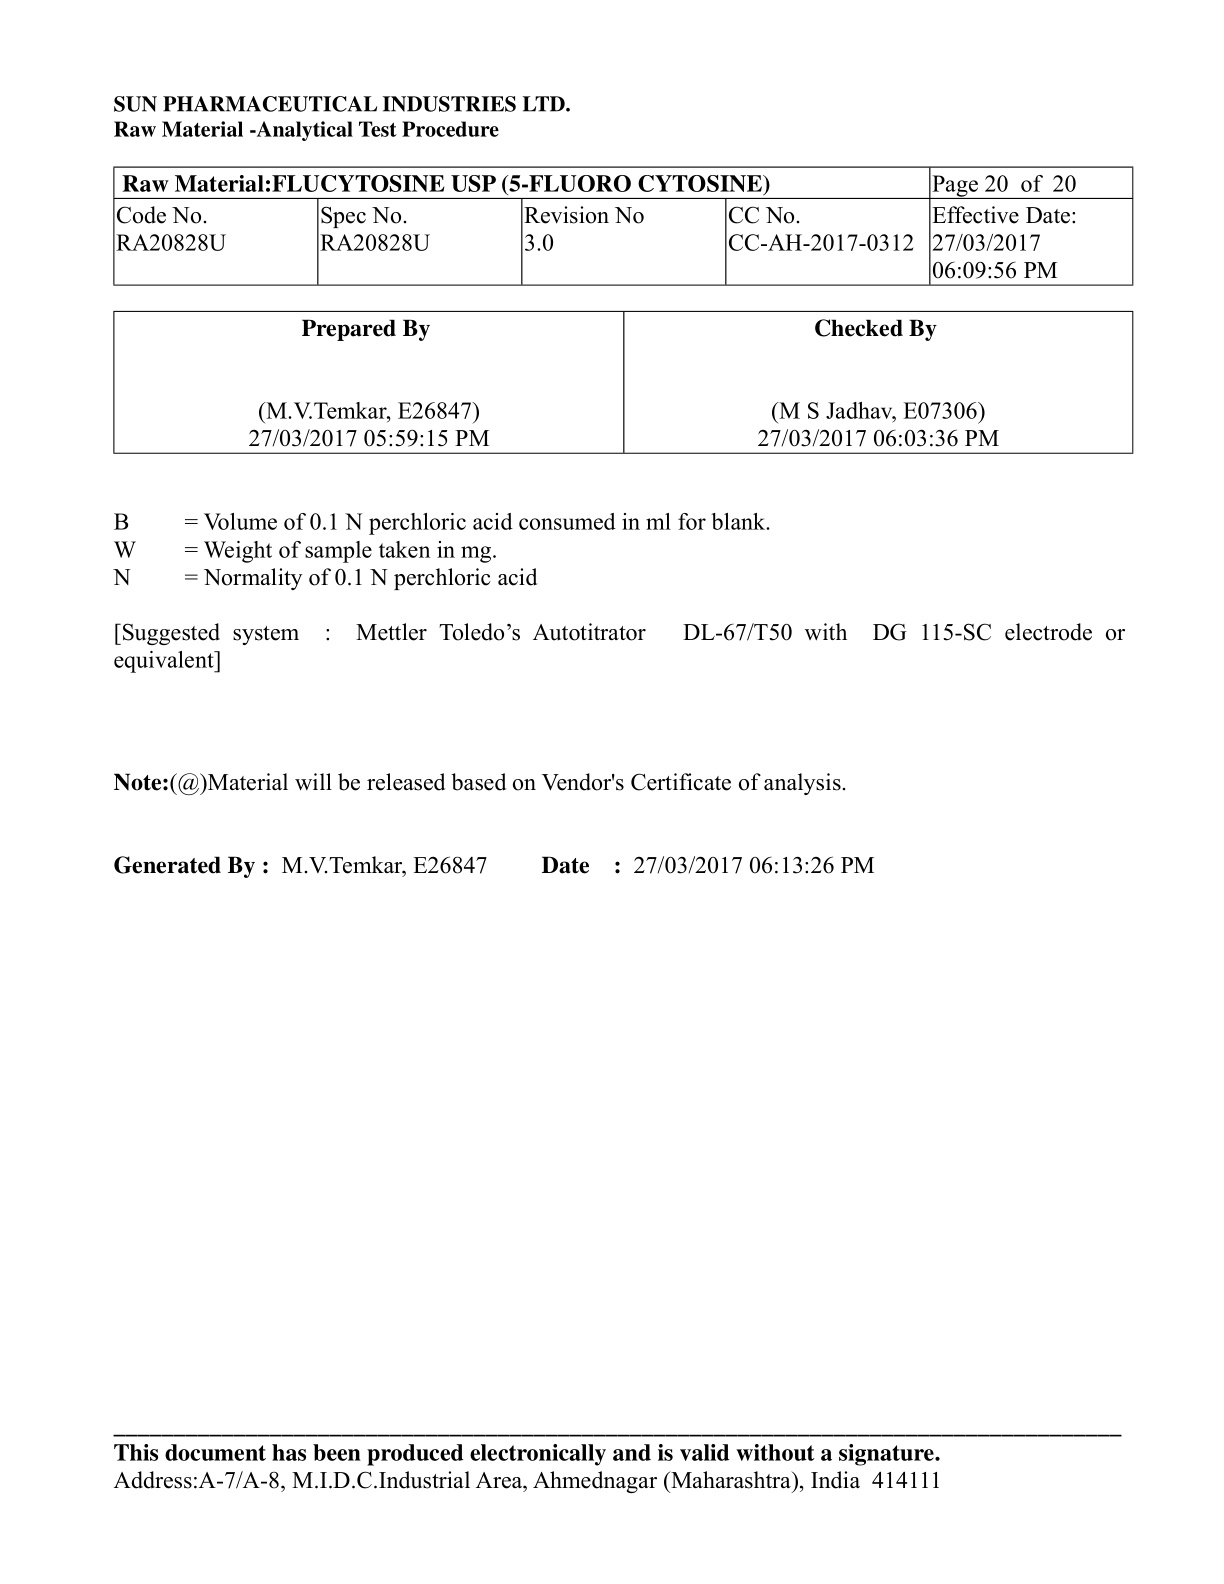full_lined: (113, 310, 1134, 454)
merged_cells: (112, 165, 1134, 285)
